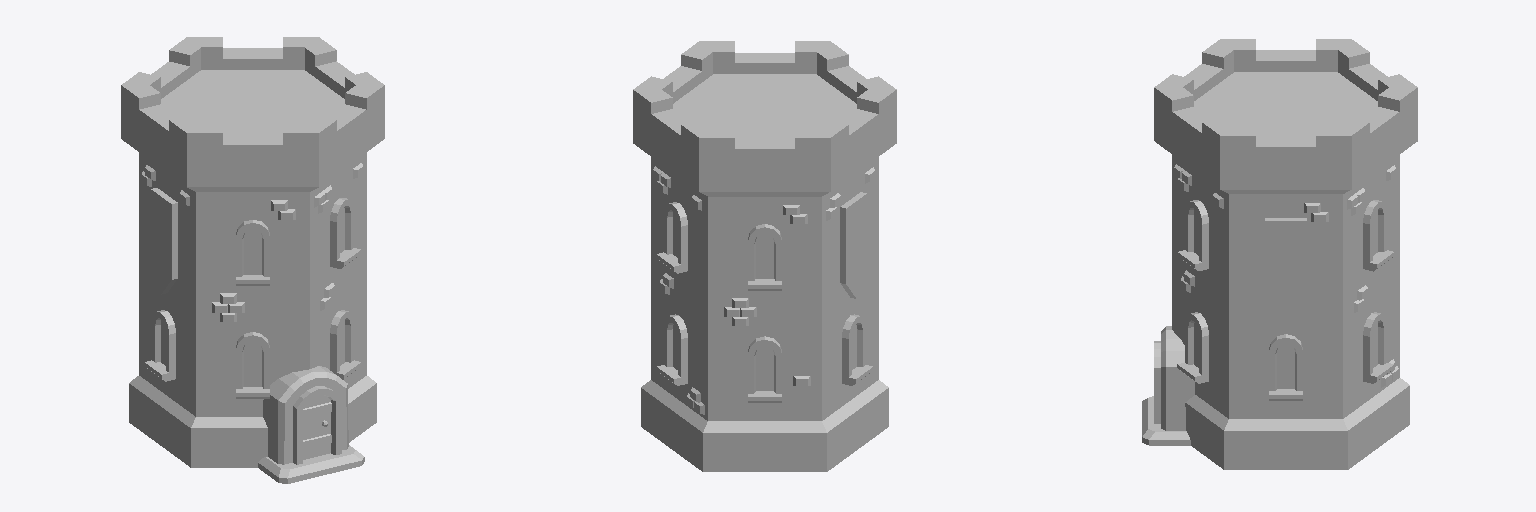
File: building_tower_catapult_red.obj
The picture shows the model from 3 angles: view 1: azimuth 30°, elevation 25°; view 2: azimuth 150°, elevation 25°; view 3: azimuth 270°, elevation 25°; orthographic projection.
Parts seen in each view (by area): view 1: building_tower_catapult_red; view 2: building_tower_catapult_red; view 3: building_tower_catapult_red.
Boxes of the visible parts, box(x1,y1,x2,y2) form: building_tower_catapult_red: box(121, 37, 384, 483); building_tower_catapult_red: box(633, 41, 896, 471); building_tower_catapult_red: box(1142, 39, 1417, 469).
Size of the model in its own units: 0.9298 by 1.5 by 1.11.